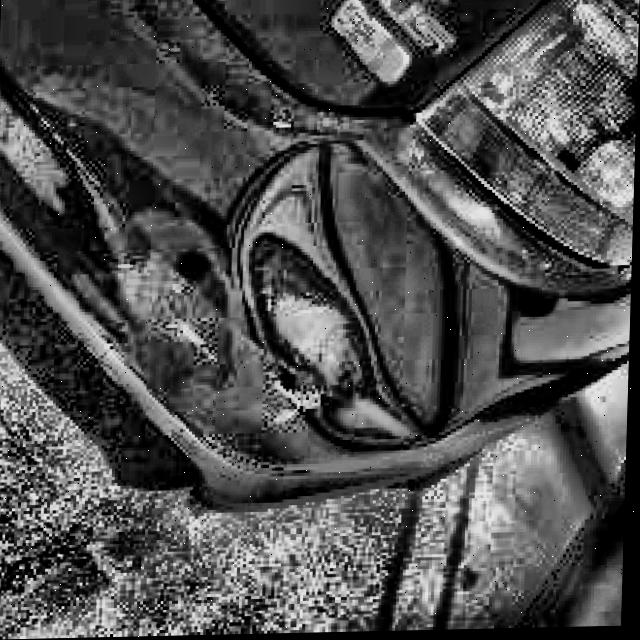bumper_dent: (248, 139, 467, 447), (118, 221, 219, 371)
